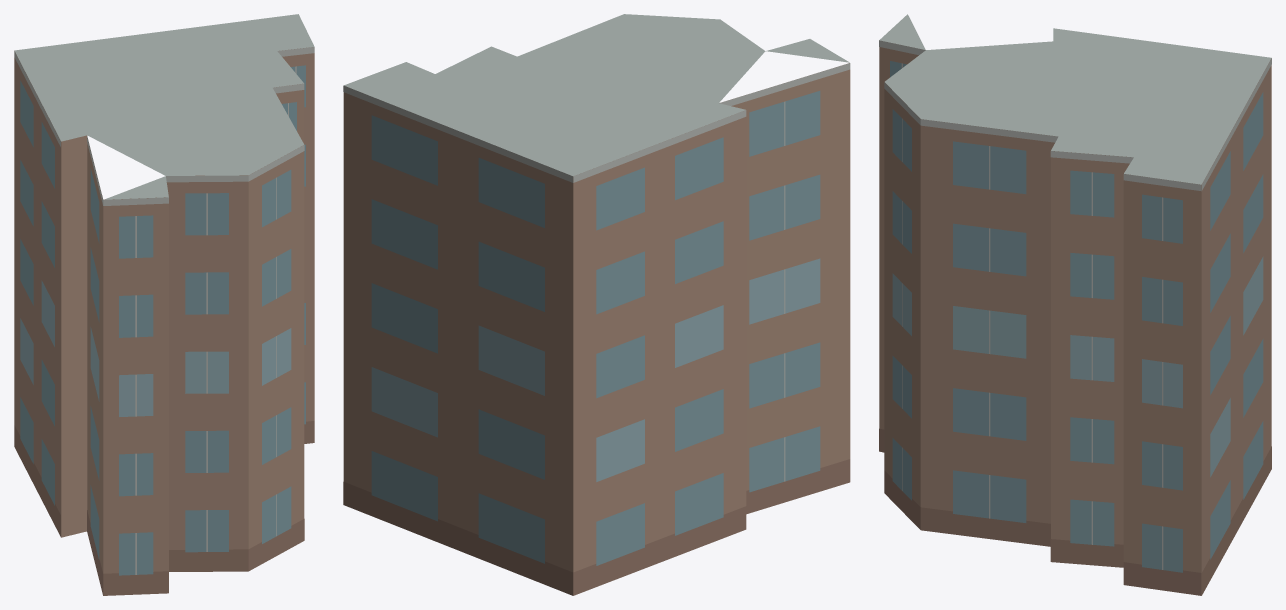
Rendered from survey-upis-32486200.glb.
The picture shows the model from 3 angles, left to right: view 1: azimuth 30°, elevation 25°; view 2: azimuth 150°, elevation 25°; view 3: azimuth 270°, elevation 25°; orthographic projection. The views are drawn at different scales.
Parts seen in each view (by area): view 1: survey-upis-32486200.tmp; view 2: survey-upis-32486200.tmp; view 3: survey-upis-32486200.tmp.
Boxes of the visible parts, left/top/right/bottom form: survey-upis-32486200.tmp: left=14, top=14, right=314, bottom=595; survey-upis-32486200.tmp: left=343, top=14, right=850, bottom=595; survey-upis-32486200.tmp: left=879, top=14, right=1271, bottom=595.
Bounding box in the file's own units: 13.63 × 15.3 × 13.25.
